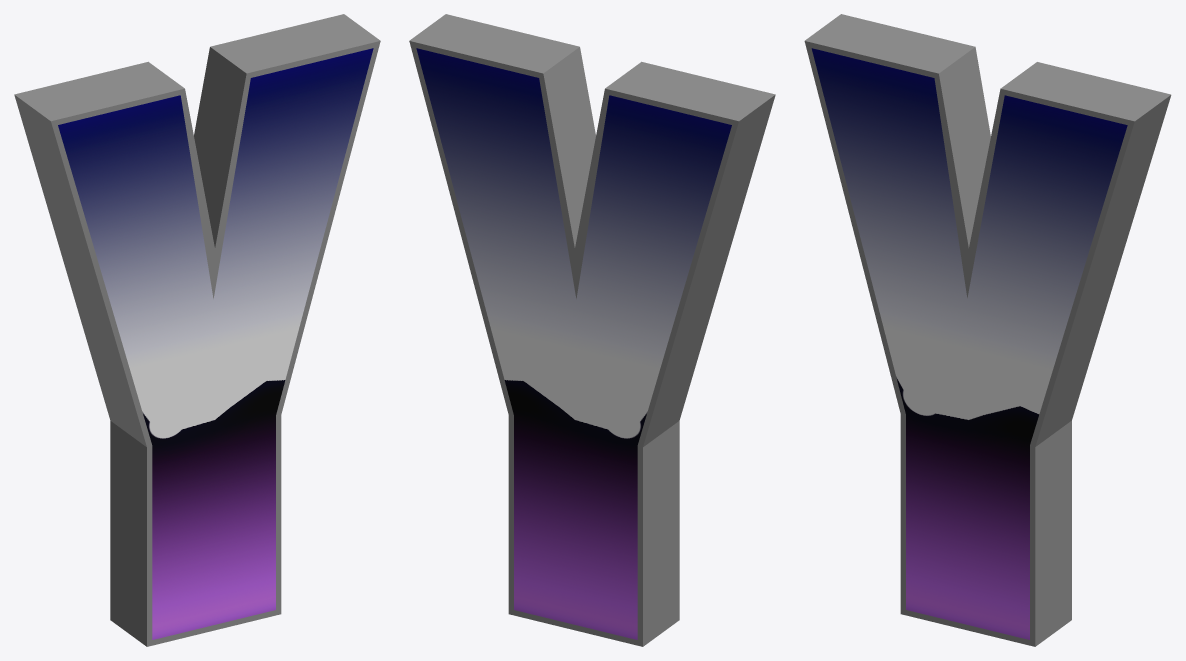
The picture shows the model from 3 angles, left to right: view 1: azimuth 30°, elevation 25°; view 2: azimuth 150°, elevation 25°; view 3: azimuth 330°, elevation 25°; orthographic projection.
Parts seen in each view (by area): view 1: Y, Y_outline; view 2: Y, Y_outline; view 3: Y, Y_outline.
Part boxes in pixels (bbox=[...]): Y: bbox=[58, 48, 373, 639]; Y_outline: bbox=[14, 14, 380, 646]; Y: bbox=[416, 48, 731, 639]; Y_outline: bbox=[409, 14, 775, 646]; Y: bbox=[811, 48, 1127, 639]; Y_outline: bbox=[804, 14, 1171, 646].
Bounding box in the file's own units: 62.37 × 99.2 × 12.
2 materials, 1 textured.
